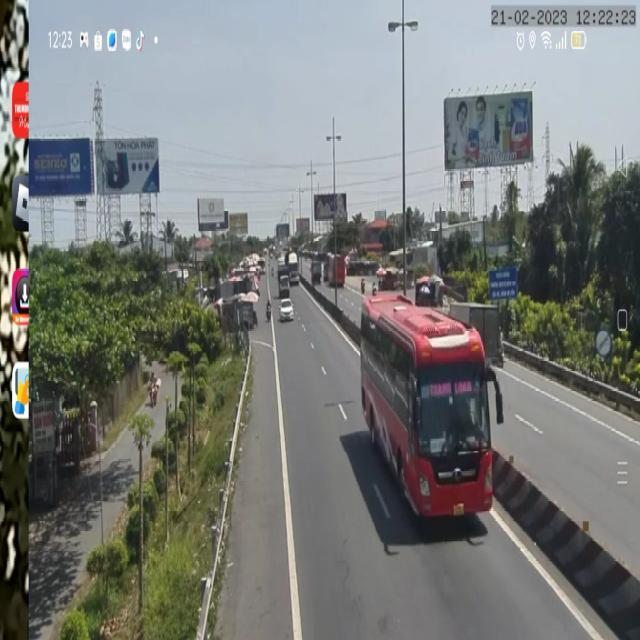bus: (360, 288, 502, 522), (327, 249, 346, 292)
car: (278, 300, 294, 323)
motorbike: (145, 365, 159, 407), (266, 298, 272, 322)
truck: (449, 294, 502, 359), (286, 251, 301, 287), (276, 266, 292, 298)
